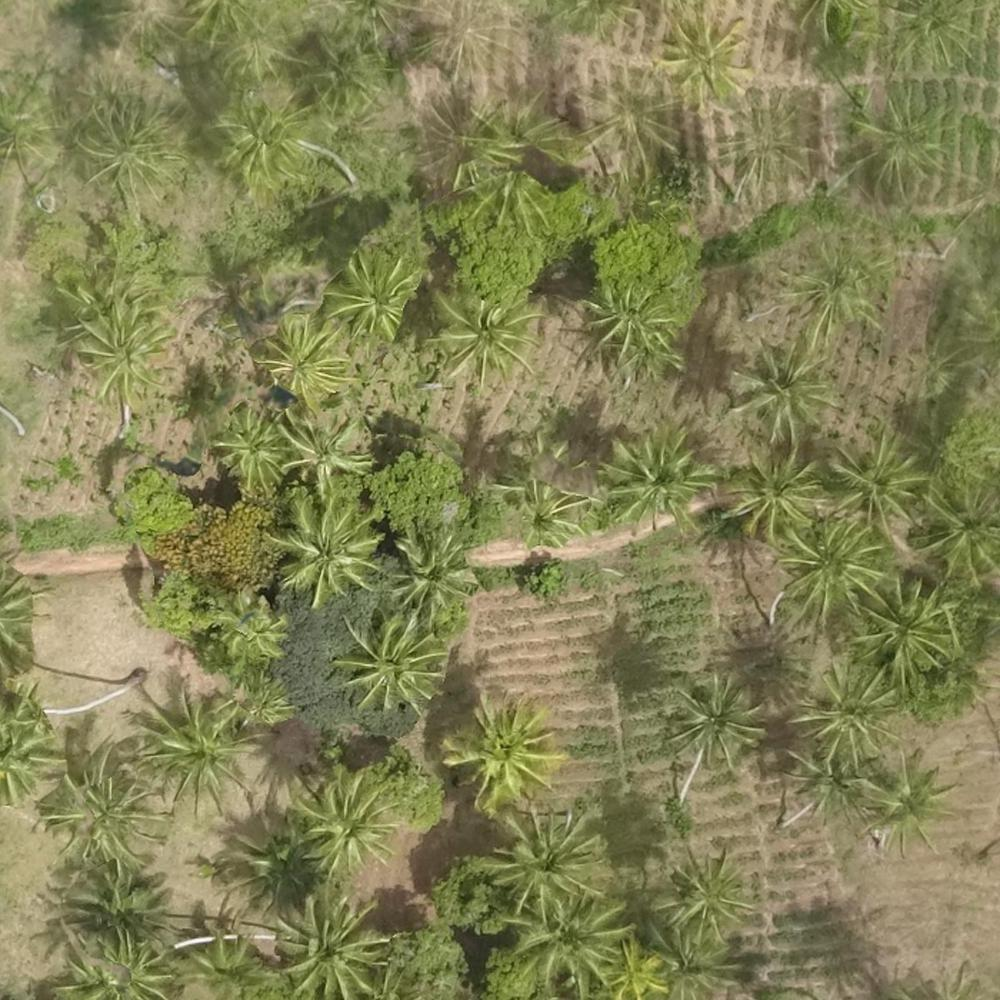Palm: (143, 690, 259, 809), (51, 746, 166, 862), (447, 692, 560, 809), (426, 281, 538, 390), (508, 892, 628, 993), (269, 498, 380, 602), (49, 862, 169, 958), (852, 576, 957, 684), (605, 428, 712, 533), (497, 807, 605, 907), (334, 611, 440, 712), (276, 899, 386, 995), (799, 663, 902, 764), (725, 340, 834, 435), (784, 516, 886, 617), (292, 776, 395, 875), (867, 749, 960, 850), (913, 476, 1000, 582), (260, 312, 358, 406), (77, 301, 171, 395), (824, 434, 921, 524), (727, 448, 820, 538), (666, 678, 758, 767), (661, 848, 748, 942), (583, 277, 678, 361), (217, 101, 309, 186), (331, 247, 414, 336), (281, 400, 372, 481), (395, 526, 481, 611), (213, 409, 292, 489), (215, 591, 287, 663), (596, 932, 670, 1000)
